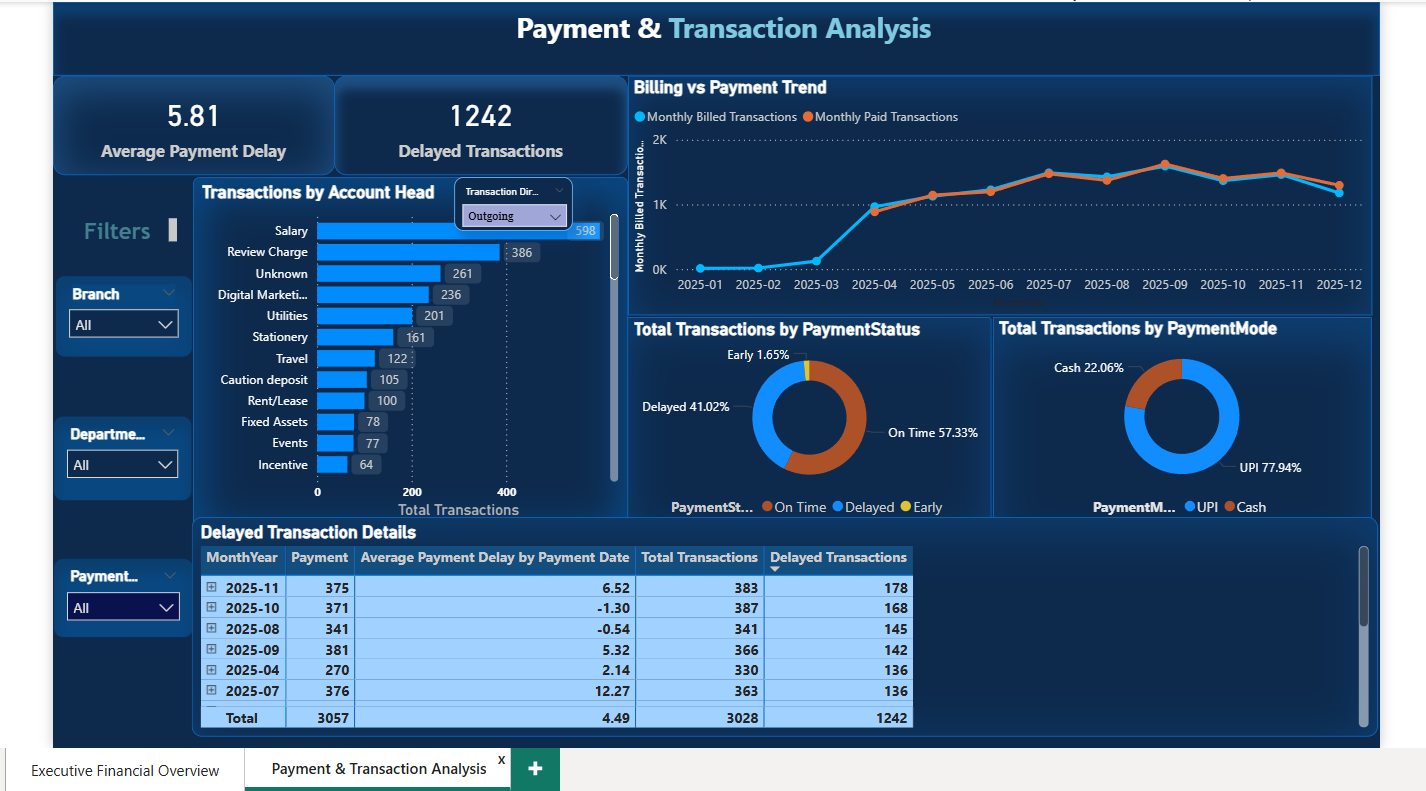

The page's visual inventory and layout, read from the dashboard file:
{"tool":"powerbi","page":{"name":"Payment & Transaction Analysis","canvas":[1280,720],"ordinal":1},"visuals":[{"type":"card","fields":{"Values":["FactTransactions.Average Payment Delay"]},"box":[0,71.3,271.8,95.9],"z":0},{"type":"card","fields":{"Values":["FactTransactions.Delayed Transactions"]},"box":[271.8,71.3,282.9,95.9],"z":1000},{"type":"textbox","box":[0,0,1280.5,71.3],"z":2000},{"type":"slicer","fields":{"Values":["DimPaymentStatus.PaymentStatus"]},"box":[187,519.1,135.3,75],"z":4000},{"type":"slicer","fields":{"Values":["DimDepartment.Department"]},"box":[0,399.3,134.5,82.3],"z":5000},{"type":"slicer","fields":{"Values":["DimBranch.Branch"]},"box":[1.4,263.5,134.5,81],"z":6000},{"type":"slicer","fields":{"Values":["DimPaymentMode.PaymentMode"]},"box":[0,536.5,135.8,76.8],"z":7000},{"type":"donutChart","fields":{"Category":["DimPaymentMode.PaymentMode"],"Y":["FactTransactions.Total Transactions"]},"box":[907.8,303.8,365.3,203],"z":8000},{"type":"donutChart","fields":{"Category":["DimPaymentStatus.PaymentStatus"],"Y":["FactTransactions.Total Transactions"]},"box":[553.8,304,352.3,203.9],"z":9000},{"type":"lineChart","title":"Billing vs Payment Trend","fields":{"Y":["Calendar.Monthly Billed Transactions","Calendar.Monthly Paid Transactions"],"Category":["Calendar.MonthYear"]},"box":[554.8,71.3,718.4,231.3],"z":10000},{"type":"clusteredBarChart","title":"Transactions by Account Head","fields":{"Category":["FactTransactions.AccountHead"],"Y":["FactTransactions.Total Transactions"]},"box":[135.1,168.9,419.8,339],"z":11000},{"type":"pivotTable","title":"Delayed Transaction Details","fields":{"Rows":["Calendar.MonthYear","Calendar.Date.Variation.Date Hierarchy.Day"],"Values":["FactTransactions.Payment","Calendar.Average Payment Delay by Payment Date","FactTransactions.Total Transactions","FactTransactions.Delayed Transactions"]},"box":[133.9,497.1,1144.9,212.3],"z":12000},{"type":"textbox","box":[13.4,204.2,111.5,33.6],"z":13000},{"type":"slicer","fields":{"Values":["FactTransactions.Transaction Direction"]},"box":[387.3,168.9,114.6,51.9],"z":14000}]}

Visuals, with their boxes on the page's 1280x720 design canvas (x1, y1, x2, y2). These are canvas units, not pixel positions in the 1426x791 screenshot, which may show the page scaled, cropped or inside an application window:
card - FactTransactions.Average Payment Delay: {"left": 0, "top": 71, "right": 272, "bottom": 167}
card - FactTransactions.Delayed Transactions: {"left": 272, "top": 71, "right": 555, "bottom": 167}
textbox: {"left": 0, "top": 0, "right": 1280, "bottom": 71}
slicer - DimPaymentStatus.PaymentStatus: {"left": 187, "top": 519, "right": 322, "bottom": 594}
slicer - DimDepartment.Department: {"left": 0, "top": 399, "right": 134, "bottom": 482}
slicer - DimBranch.Branch: {"left": 1, "top": 264, "right": 136, "bottom": 344}
slicer - DimPaymentMode.PaymentMode: {"left": 0, "top": 536, "right": 136, "bottom": 613}
donutChart - DimPaymentMode.PaymentMode x FactTransactions.Total Transactions: {"left": 908, "top": 304, "right": 1273, "bottom": 507}
donutChart - DimPaymentStatus.PaymentStatus x FactTransactions.Total Transactions: {"left": 554, "top": 304, "right": 906, "bottom": 508}
"Billing vs Payment Trend" lineChart: {"left": 555, "top": 71, "right": 1273, "bottom": 303}
"Transactions by Account Head" clusteredBarChart: {"left": 135, "top": 169, "right": 555, "bottom": 508}
"Delayed Transaction Details" pivotTable: {"left": 134, "top": 497, "right": 1279, "bottom": 709}
textbox: {"left": 13, "top": 204, "right": 125, "bottom": 238}
slicer - FactTransactions.Transaction Direction: {"left": 387, "top": 169, "right": 502, "bottom": 221}
